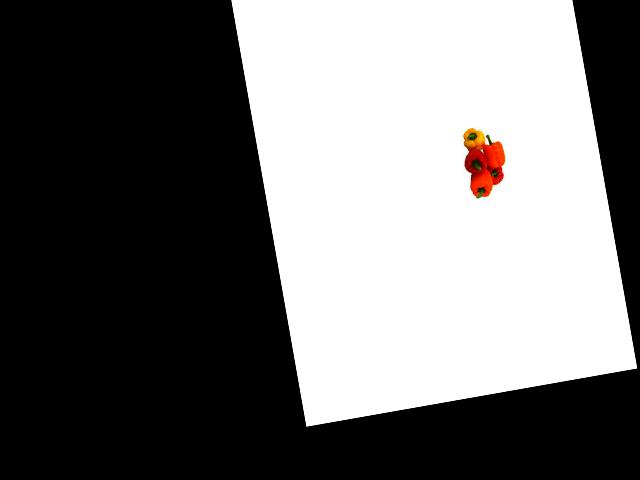bell_pepper: (465, 167, 498, 205)
